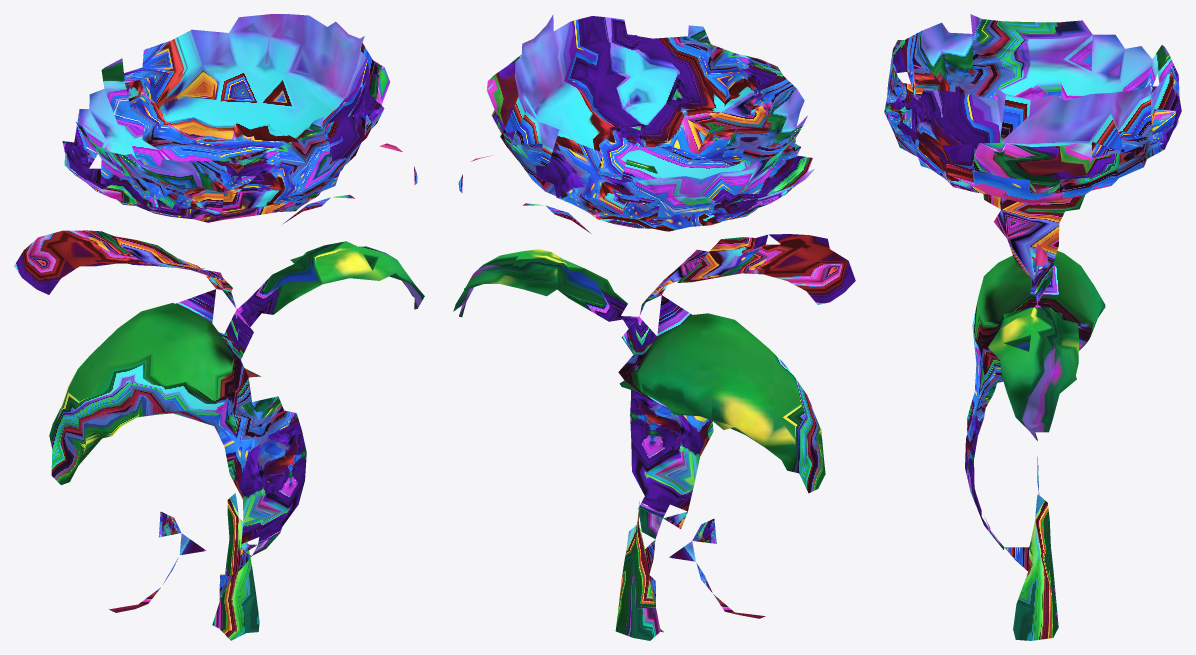
3 views of the same model, side by side, from view 1: azimuth 30°, elevation 25°; view 2: azimuth 150°, elevation 25°; view 3: azimuth 270°, elevation 25° (orthographic). The views are drawn at different scales.
Visible parts, largest first — view 1: model.005; view 2: model.005; view 3: model.005.
Boxes of the visible parts, x1,y1,x2,y2 form: model.005: (14,14,424,640); model.005: (453,14,855,640); model.005: (884,14,1181,640).
Bounding box in the file's own units: 0.8278 × 1.2 × 0.5351.
1 material, 1 textured.
